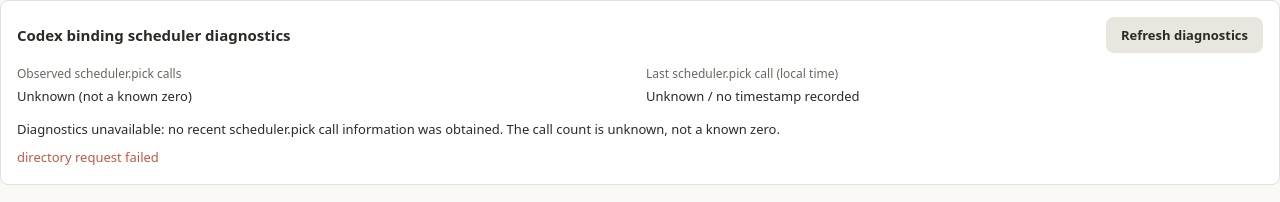
Test case: observed scheduler diagnostics › shows loading and errors and allows refreshing the observed values
Later steps or results of the test are not shown.
Expected: the element that starts with "Observed scheduler.pick calls" is shown, [17,65,860,166]
Expected: the message "directory request failed" is shown, [17,148,159,166]
What coordinates should you click on to do the following:
click the button "Refresh diagnostics"
I would click on:
 (1184, 35)
Its box is [1106,17,1263,53].
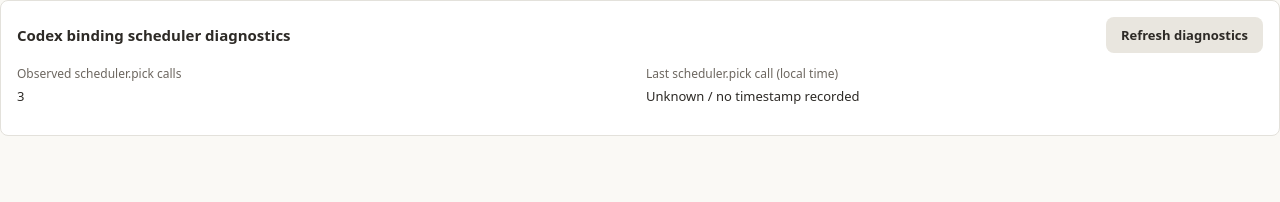
Expected: the text "3" is shown, [17,87,24,105]
Expected: the message "directory request failed" is gone
